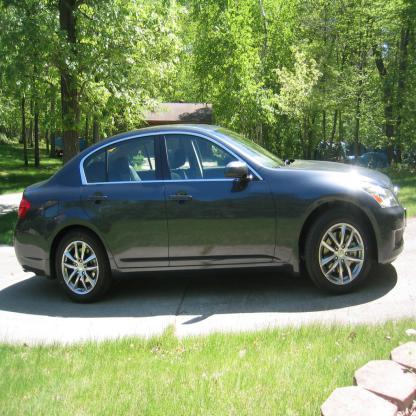Car: (13, 124, 406, 304)
